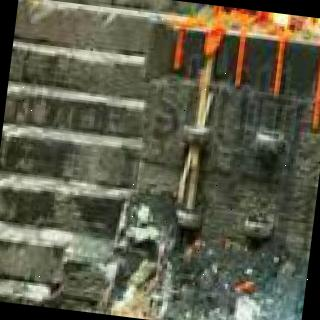fire: (265, 12, 320, 34)
